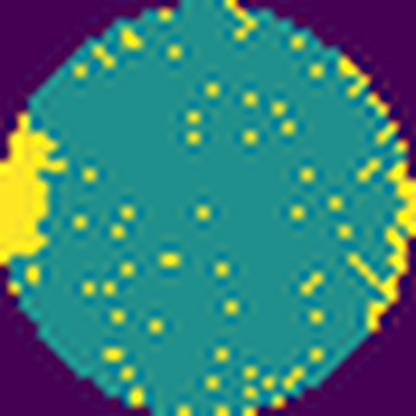Edge-Loc: (329, 52, 416, 330), (0, 110, 71, 276)
